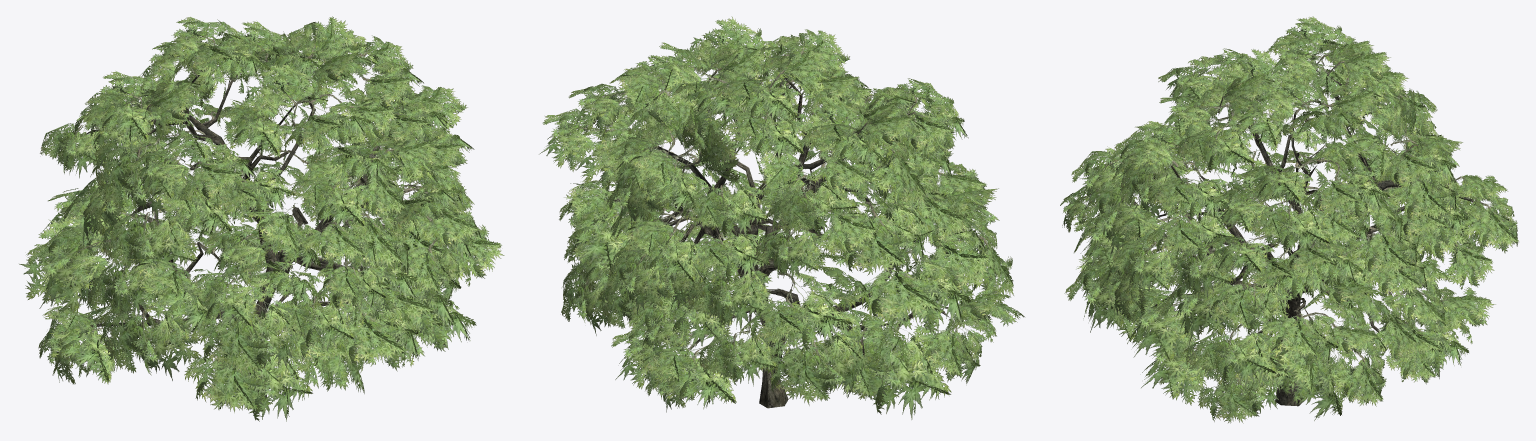
The model's file is bush.glb.
3 renders of one model, left to right at view 1: azimuth 30°, elevation 25°; view 2: azimuth 150°, elevation 25°; view 3: azimuth 270°, elevation 25°, orthographic. The views are drawn at different scales.
Parts seen in each view (by area): view 1: Object_8, Object_9; view 2: Object_8, Object_9; view 3: Object_8, Object_9.
Boxes of the visible parts, x1,y1,x2,y2 form: Object_8: [19, 16, 504, 421]; Object_9: [86, 67, 417, 404]; Object_8: [539, 16, 1024, 419]; Object_9: [601, 76, 949, 408]; Object_8: [1060, 16, 1518, 423]; Object_9: [1128, 70, 1472, 406].
Size of the model in its own units: 11.15 by 8.7 by 10.56.
2 materials, 2 textured.
